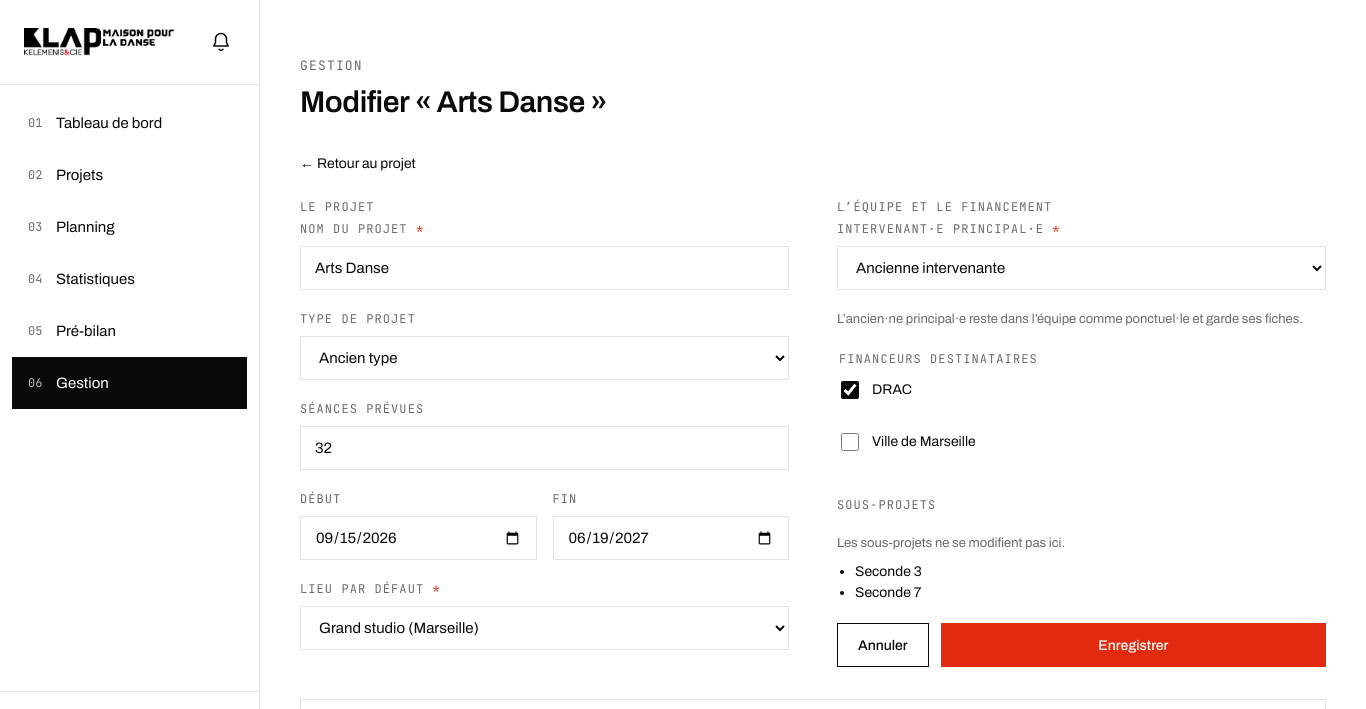
Scenario: Modifier un projet › affiche les erreurs de l’API sous les champs
Replace the text in the number field labelled "Séances prévues" with "40" at (544, 448), box x1=300 y1=426 x2=789 y2=470
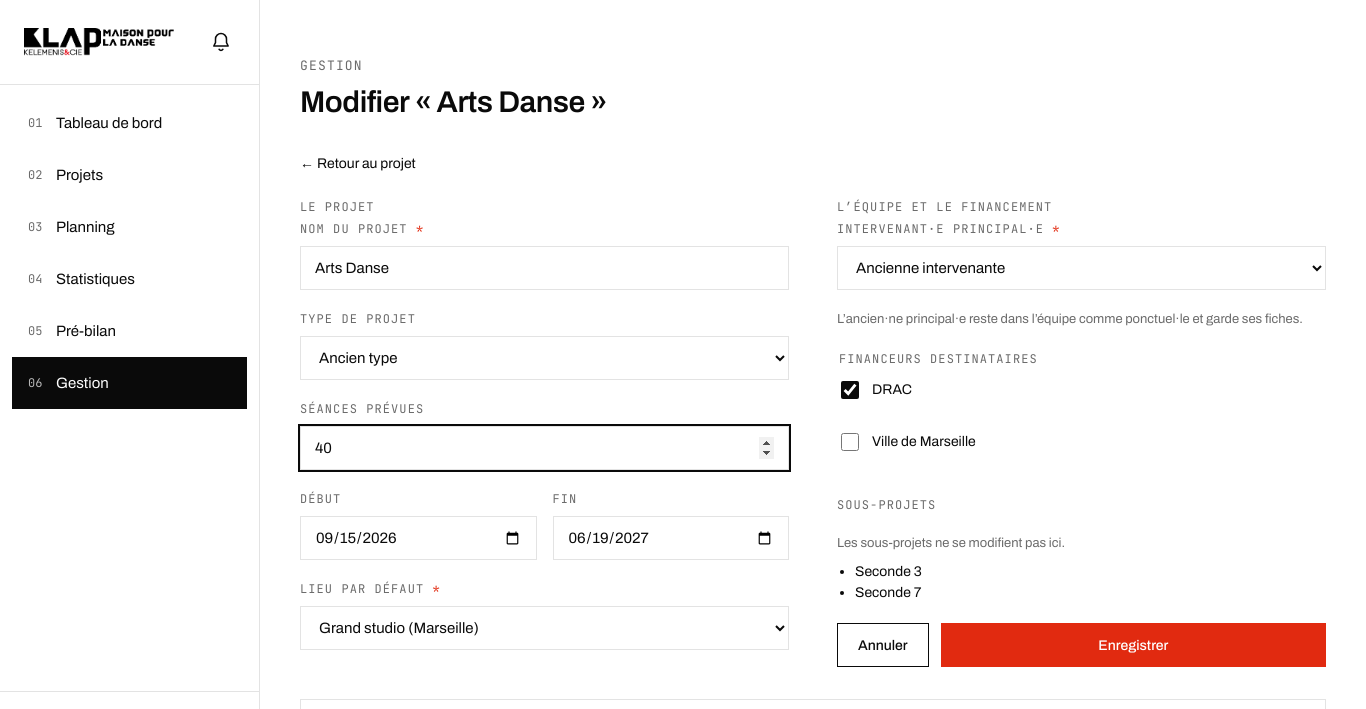
Click the button "Enregistrer" at (1133, 645), box x1=941 y1=623 x2=1326 y2=667
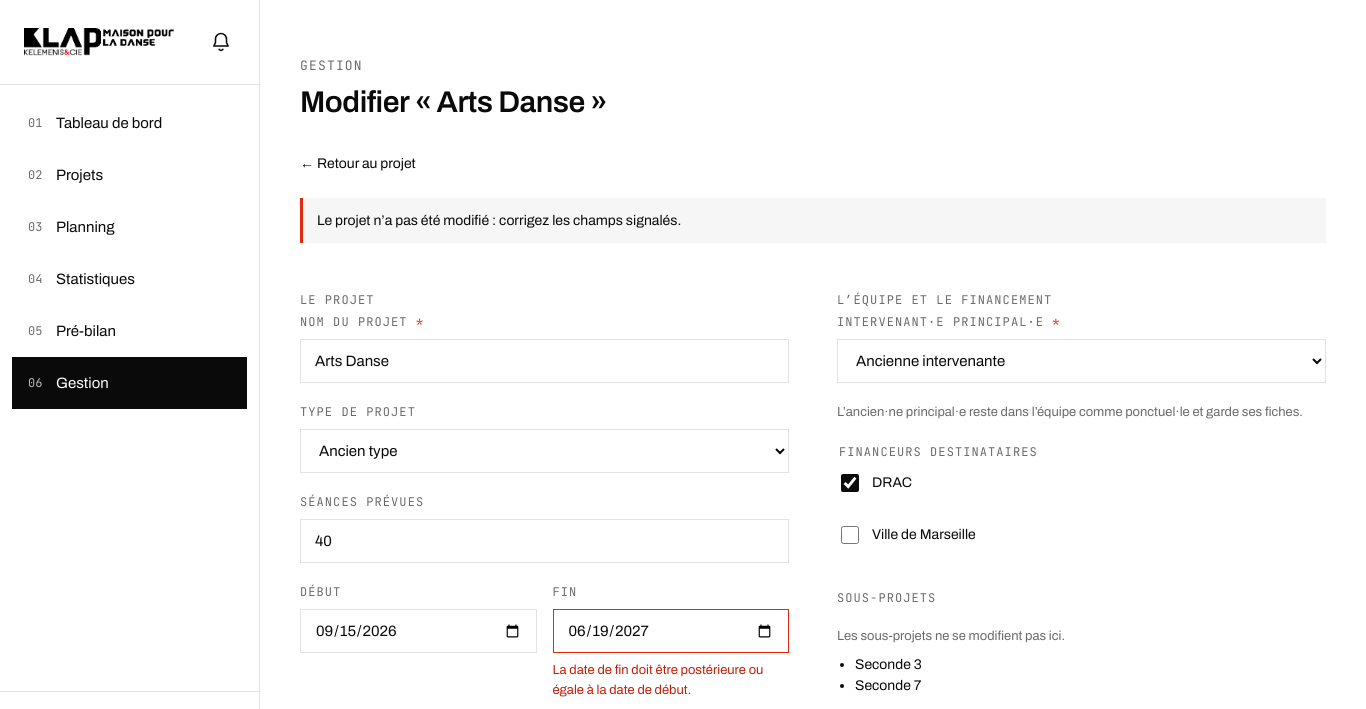
Expected: the text "La date de fin doit être postérieure ou égale à la date de début." is shown, x1=552 y1=661 x2=789 y2=700
Expected: the message shows "Le projet n’a pas été modifié", x1=317 y1=213 x2=681 y2=228
